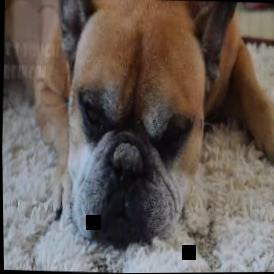keratosis: (108, 141, 145, 174)
